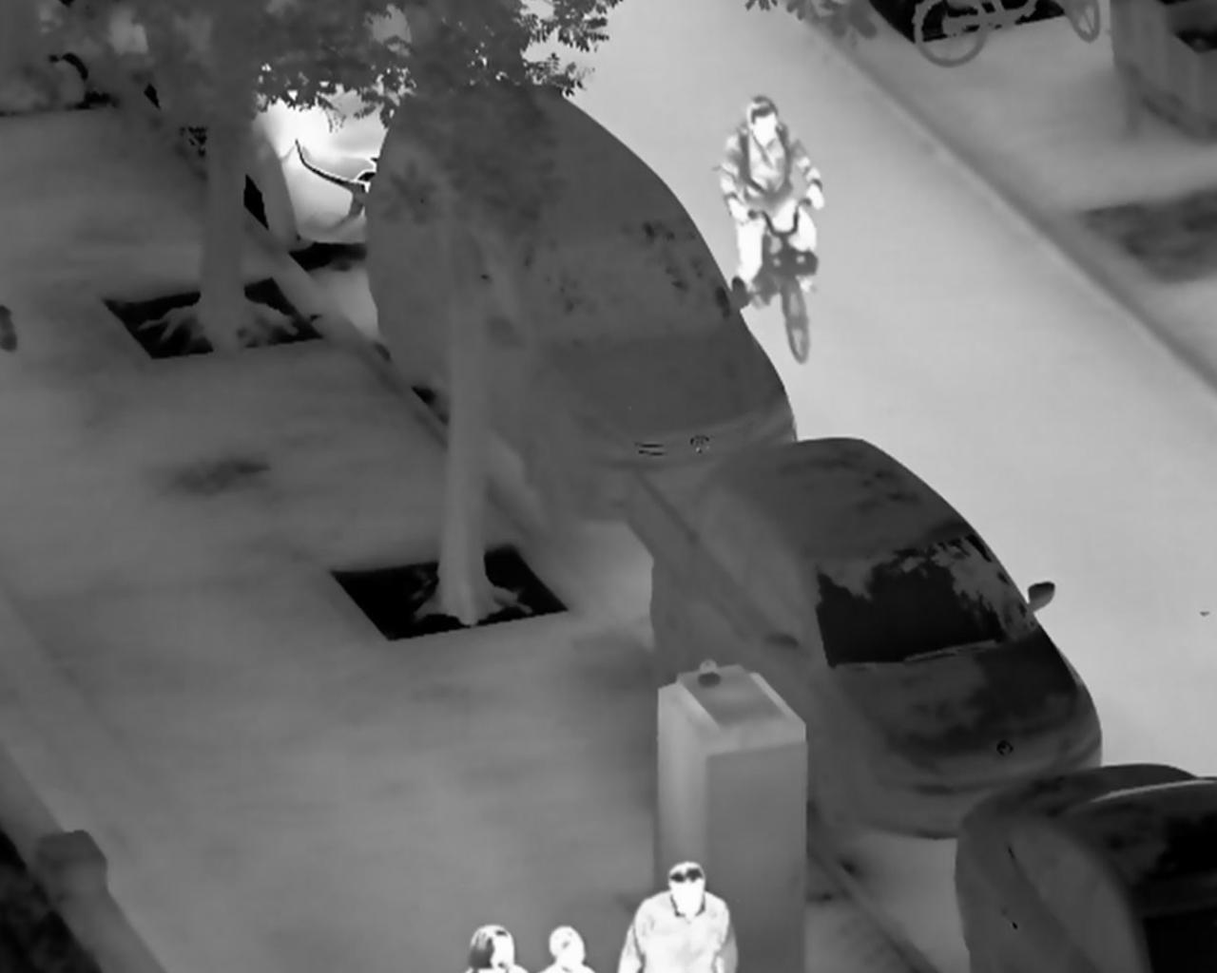person: (721, 94, 826, 296), (602, 849, 744, 973)
